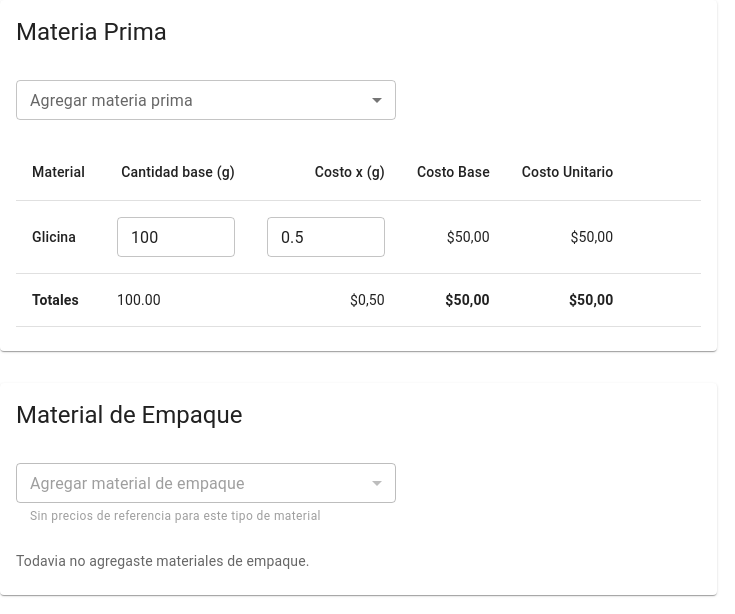
Scenario: CostBreakdown › modo dummy › selector de materiales › excluye los materiales ya agregados y muestra el id y nombre del disponible
Press the mouse on the dropdown named "Agregar materia prima" next to "Agregar materia prima" at (206, 100), box x1=16 y1=80 x2=396 y2=120
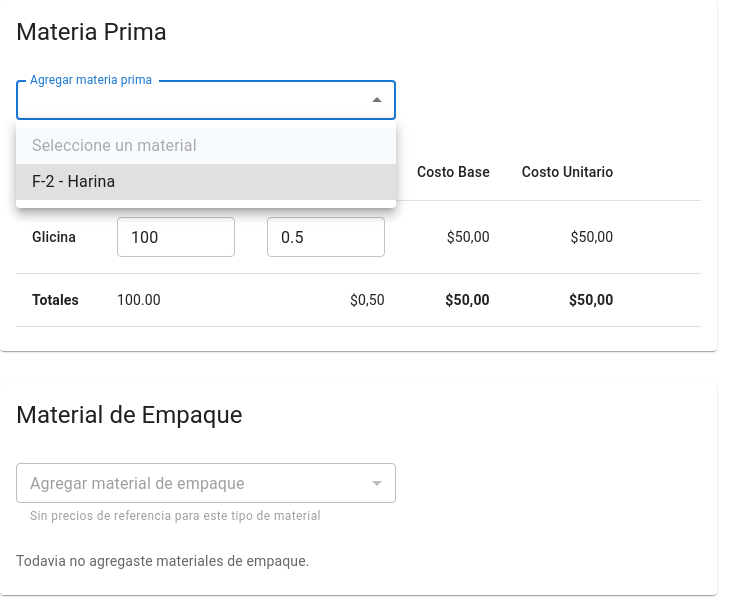
Result: the option "F-2 - Harina" is shown at x1=16 y1=164 x2=396 y2=200
